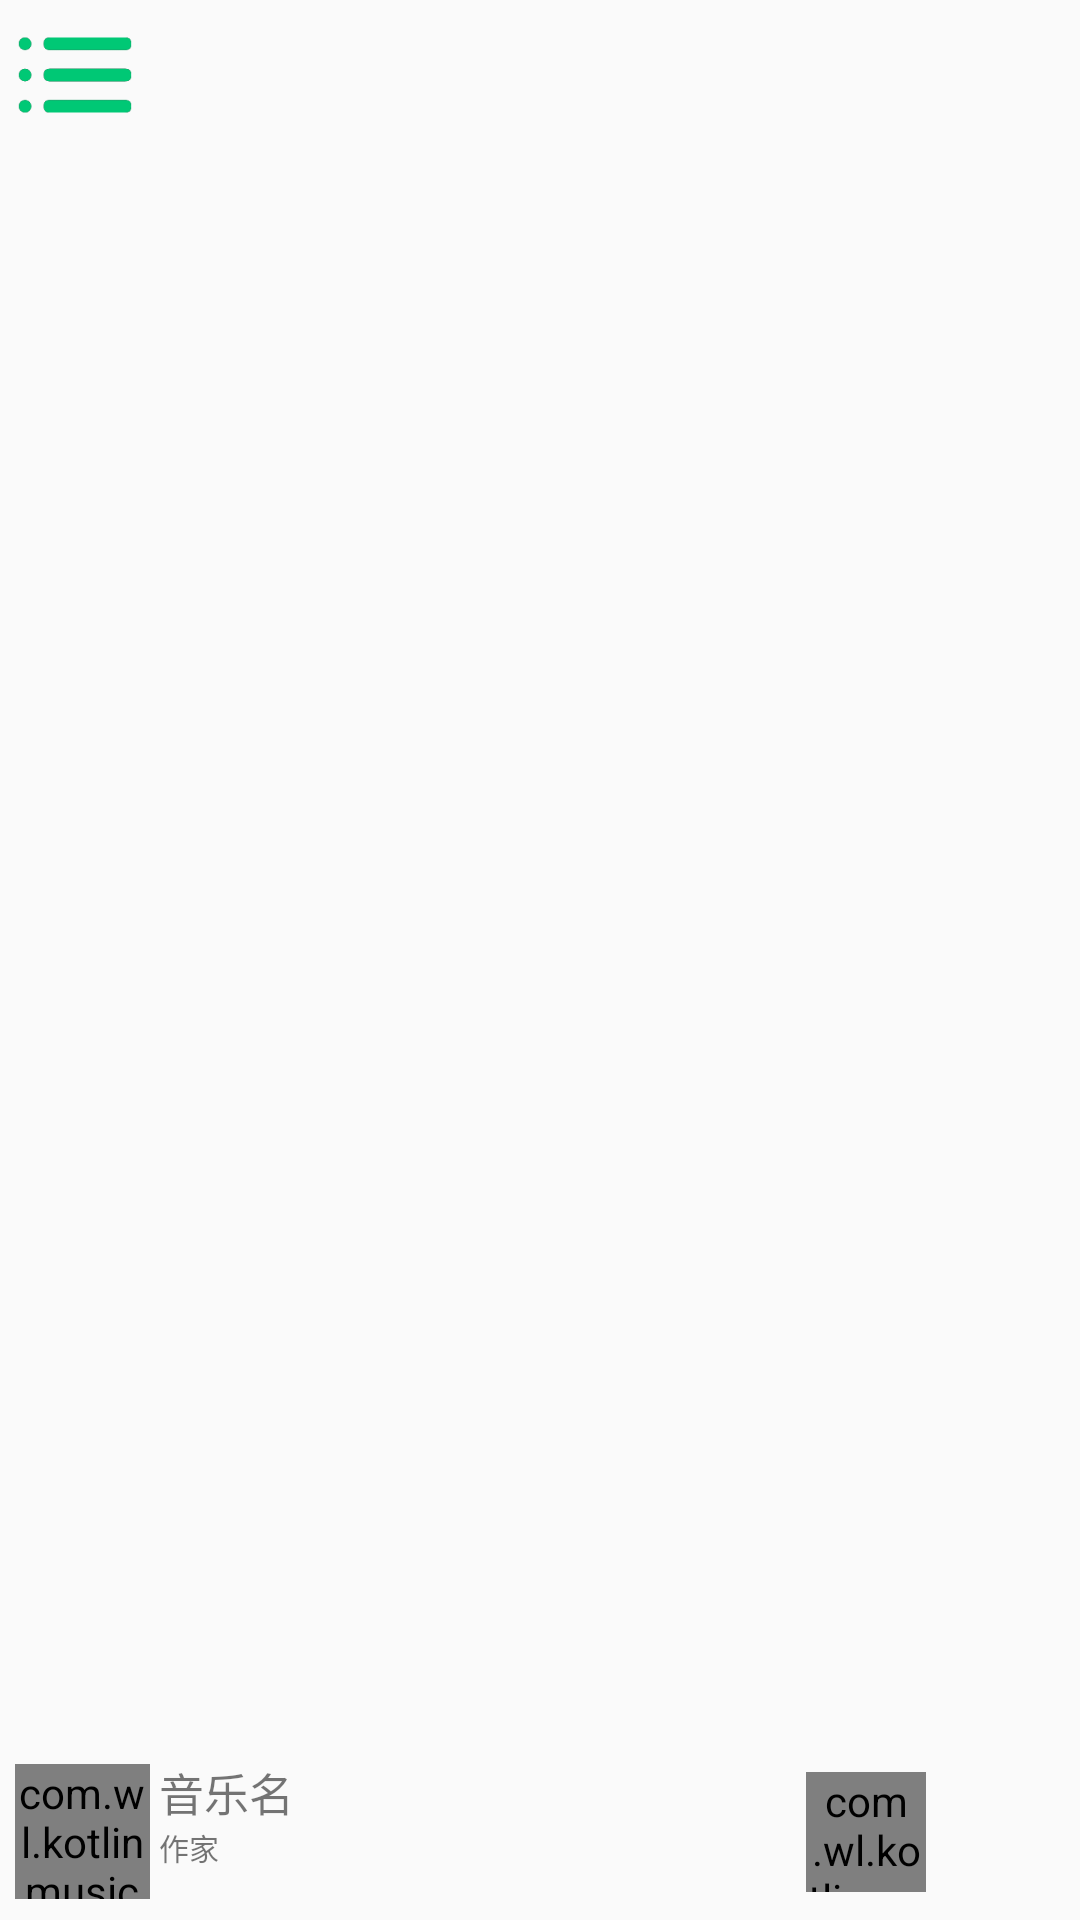

Named icons in this screenshot (1080w x 1920h) and their centers, [x,y]:
mune: [75,75]
